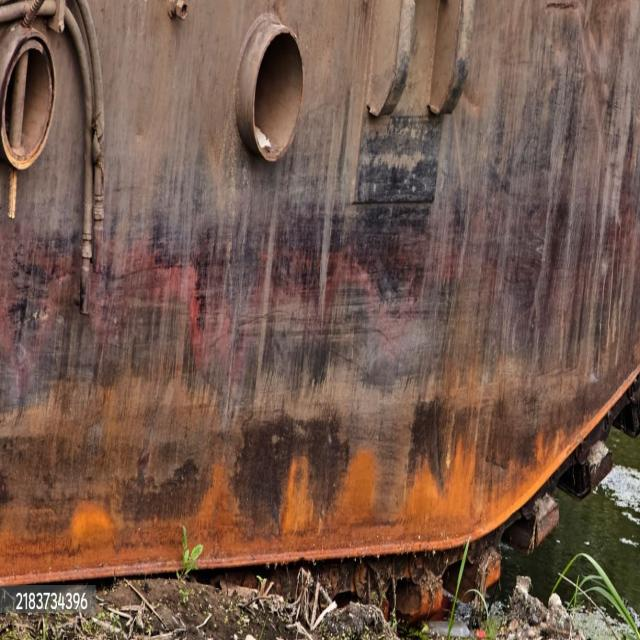Uniform Corrosion: (0, 383, 628, 583)
